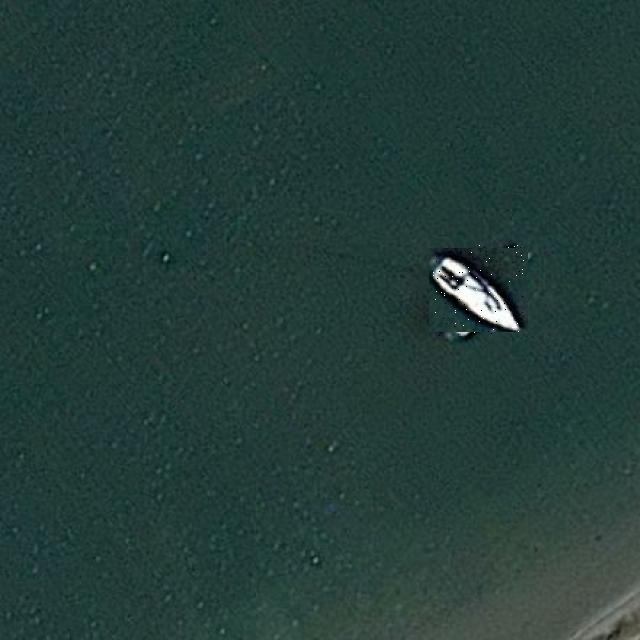boat: (432, 244, 524, 336)
